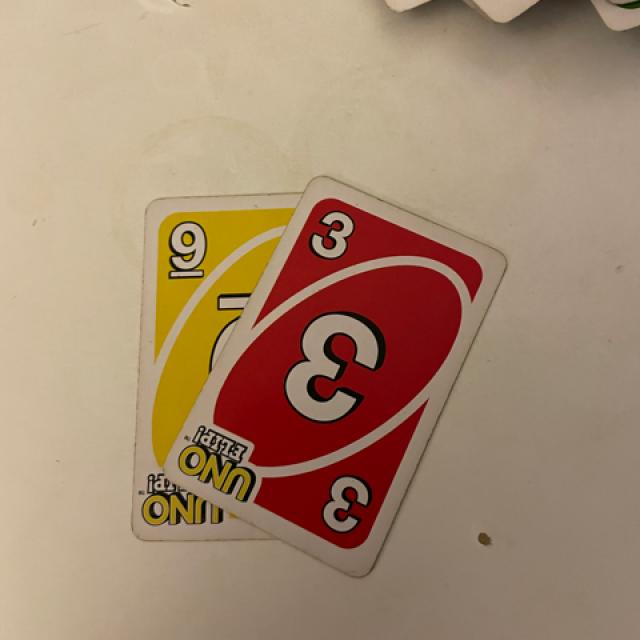lred-3: (302, 204, 360, 274)
lyellow-9: (154, 212, 222, 287)
